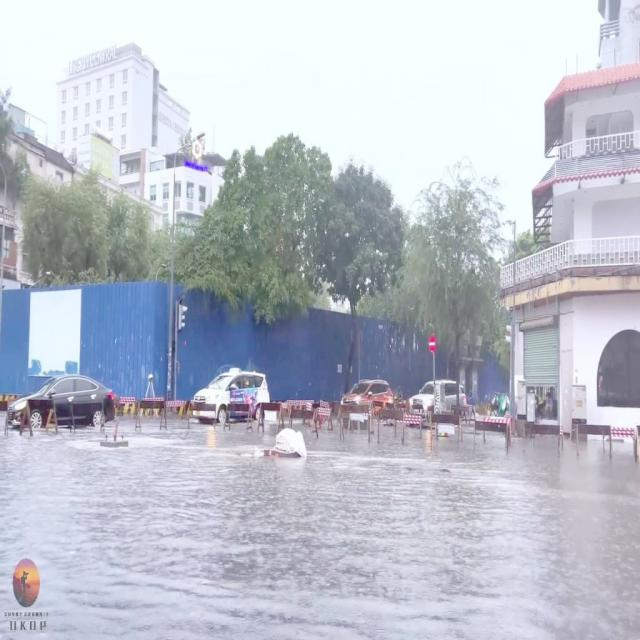cam_xe_di_nguoc_chieu: (430, 335, 438, 353)
